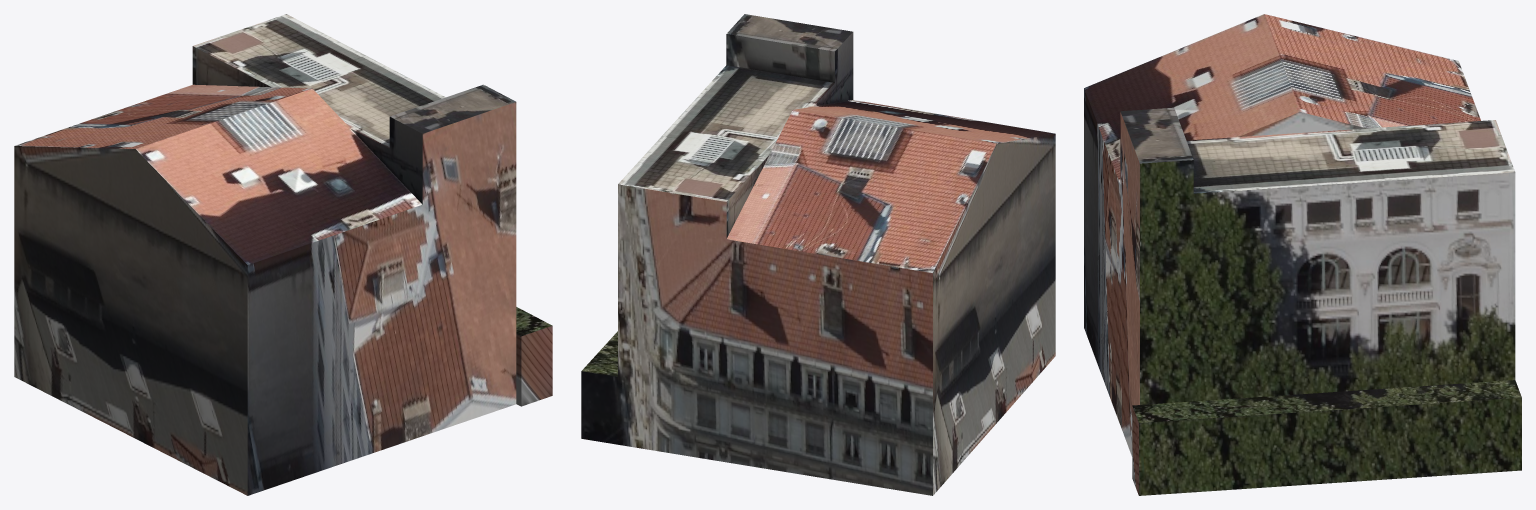
3 views of the same model, side by side, from view 1: azimuth 30°, elevation 25°; view 2: azimuth 150°, elevation 25°; view 3: azimuth 270°, elevation 25° (orthographic). The views are drawn at different scales.
Visible parts, largest first — view 1: Z_UP; view 2: Z_UP; view 3: Z_UP.
Part boxes in pixels (<box>): Z_UP: <box>14,14,552,495</box>; Z_UP: <box>581,14,1055,495</box>; Z_UP: <box>1084,14,1521,495</box>.
Size of the model in its own units: 26.66 by 20.04 by 25.31.
Materials: 2 (1 with a texture image).
